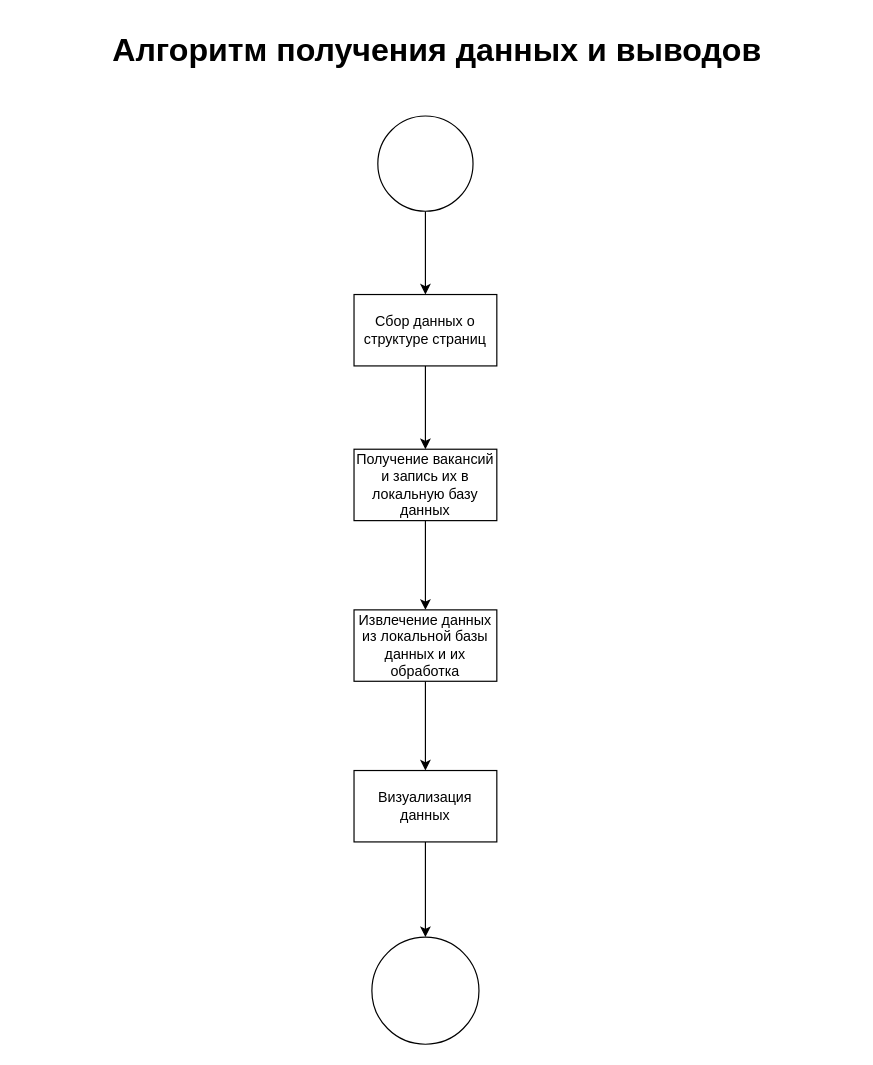
This 873x1065 diagram has some shape labels left out. The centre of each missing label's shape, as x and y in pixels:
Получение выводов: the point at 425,990
Получение геоданных: the point at 425,163
